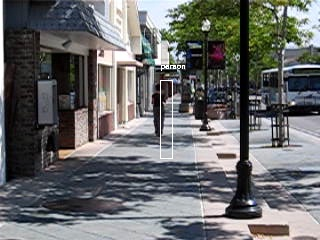person: (152, 85, 169, 138), (151, 85, 168, 138), (153, 85, 170, 138), (152, 84, 169, 137), (152, 86, 169, 139)
target_negative: (39, 52, 123, 225), (63, 135, 270, 185), (46, 121, 94, 211), (108, 197, 219, 206), (297, 202, 301, 231)
